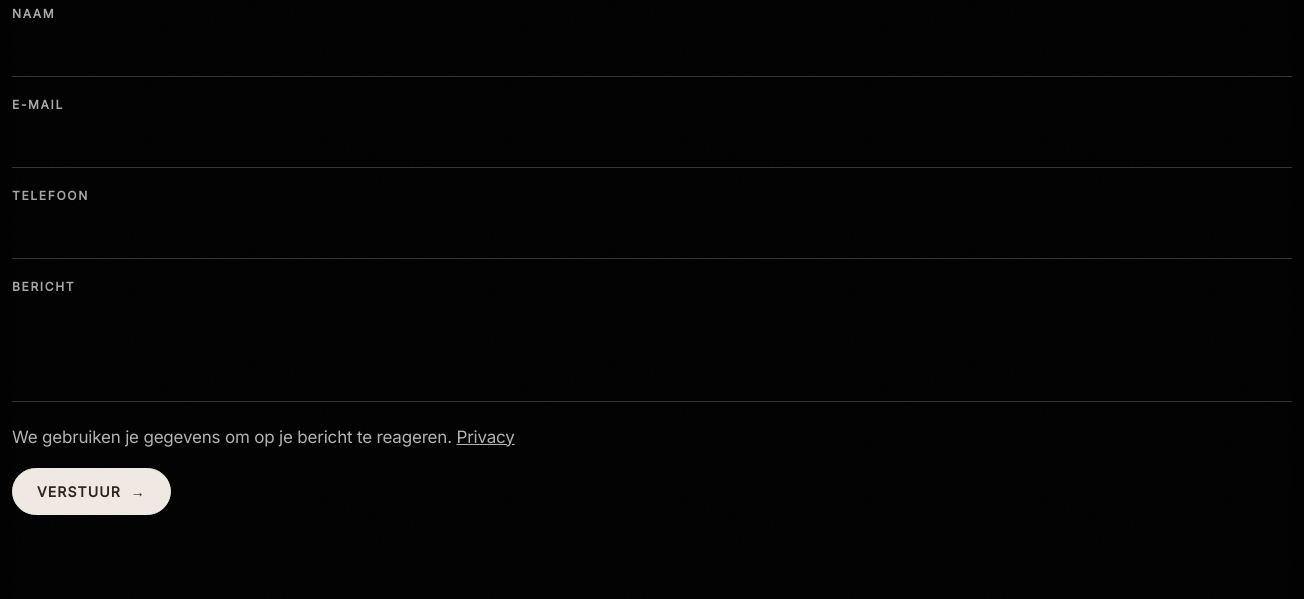
Test: shows success only after an accepted response and sends at most once while pending
In the field labelled "Naam": (652, 55) [12,34,1292,77], type "Test"
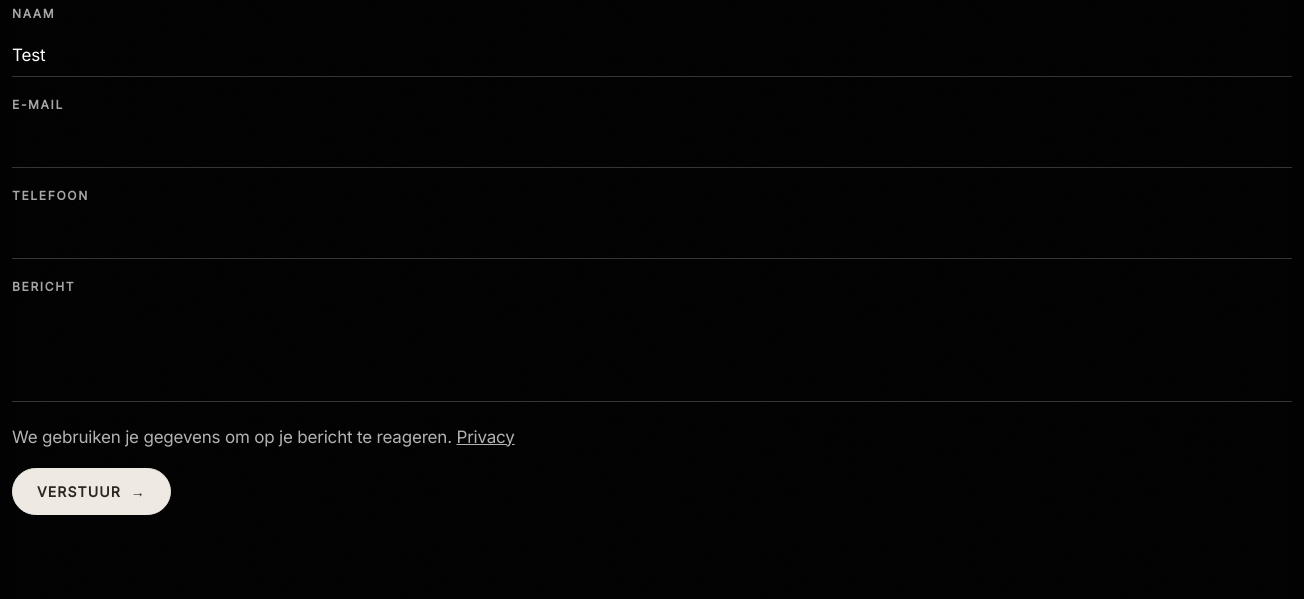
In the field labelled "E-mail": (652, 146) [12,124,1292,168], type "test@example.com"
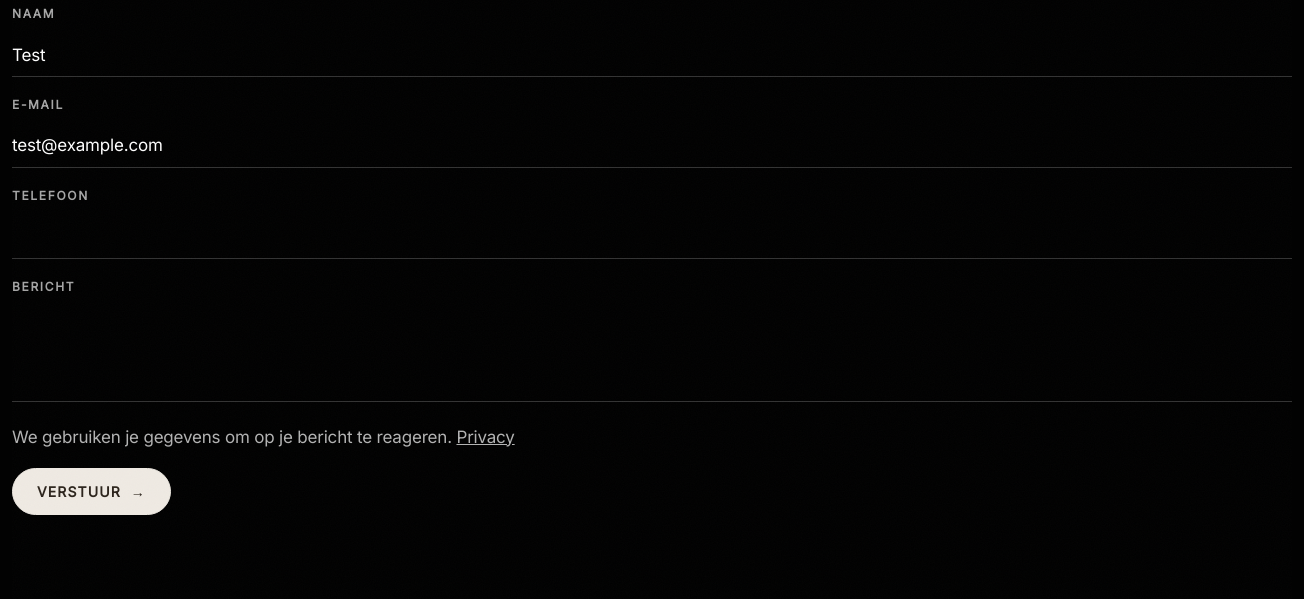
In the text box labelled "Bericht": (652, 354) [12,306,1292,402], type "Vraag over openingstijden"
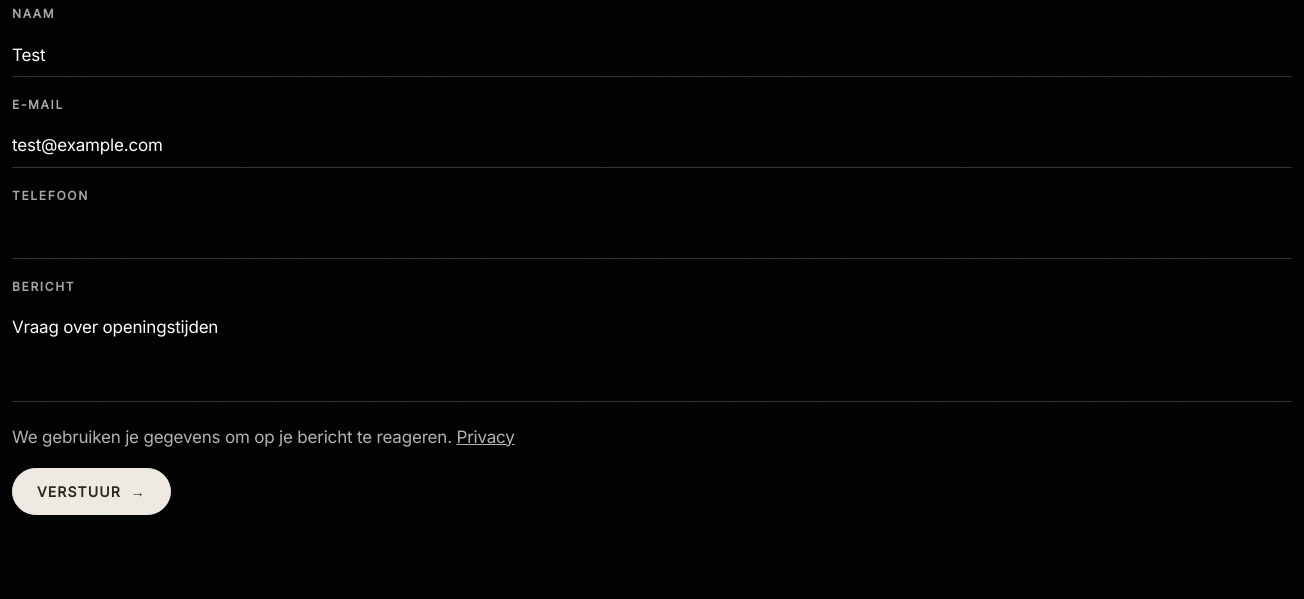
Submit the form named "Verstuur"
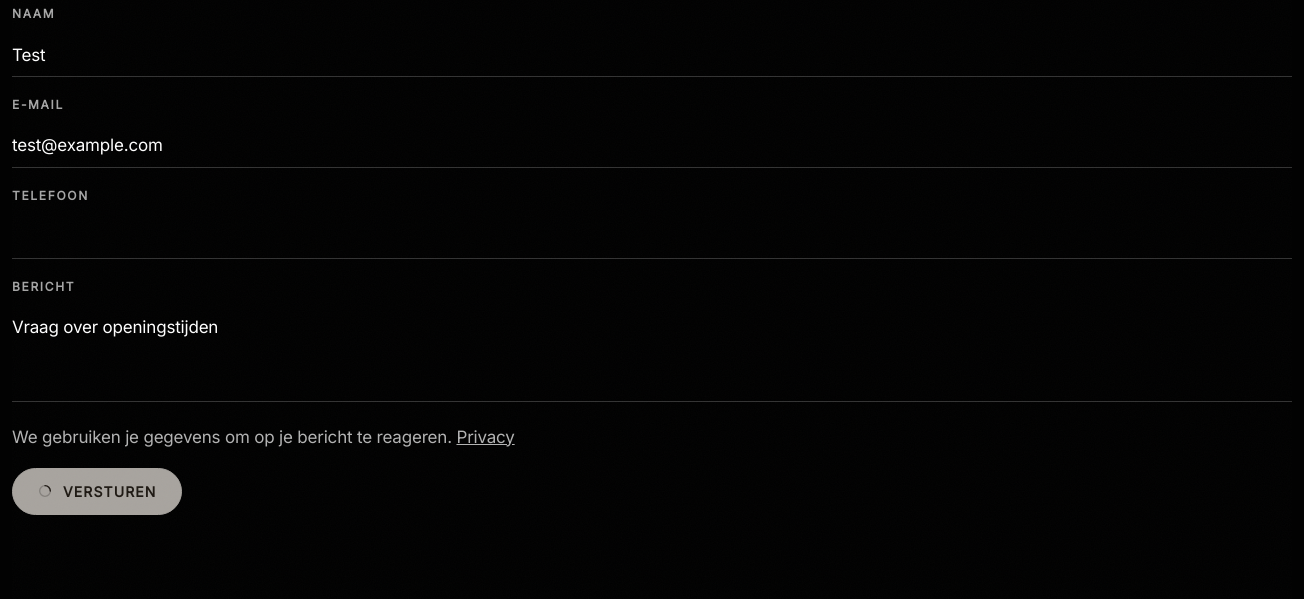
Submit the form named "Verstuur"
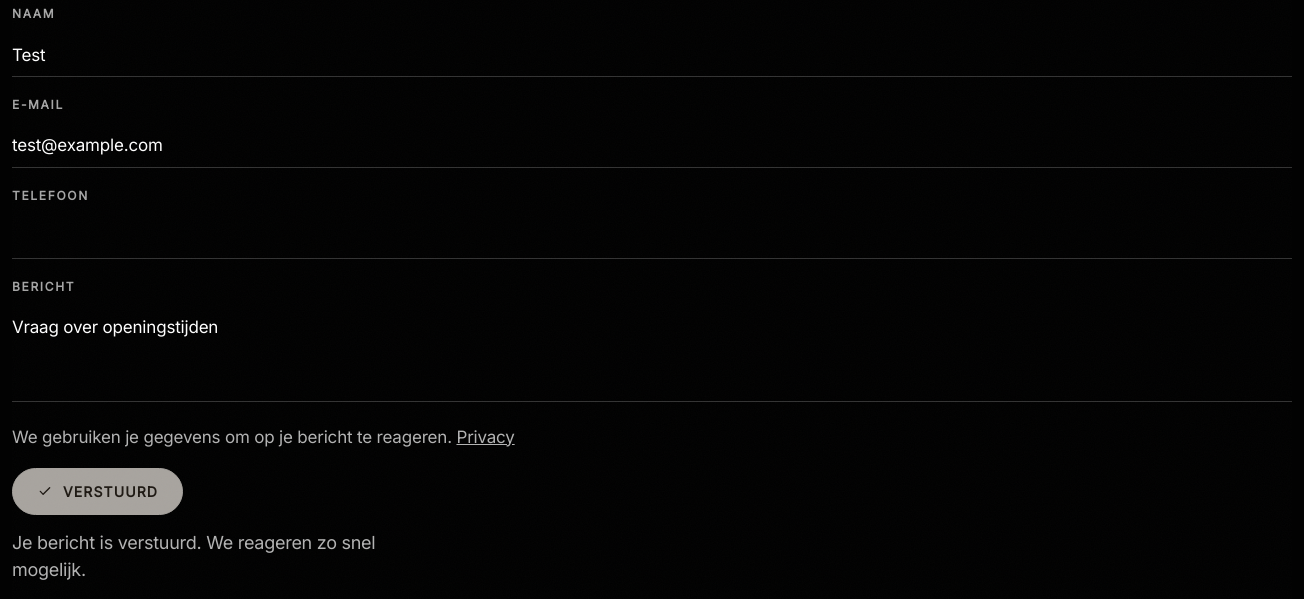
Expected: the text "Je bericht is verstuurd. We reageren zo snel mogelijk." is shown, [12,529,396,583]
